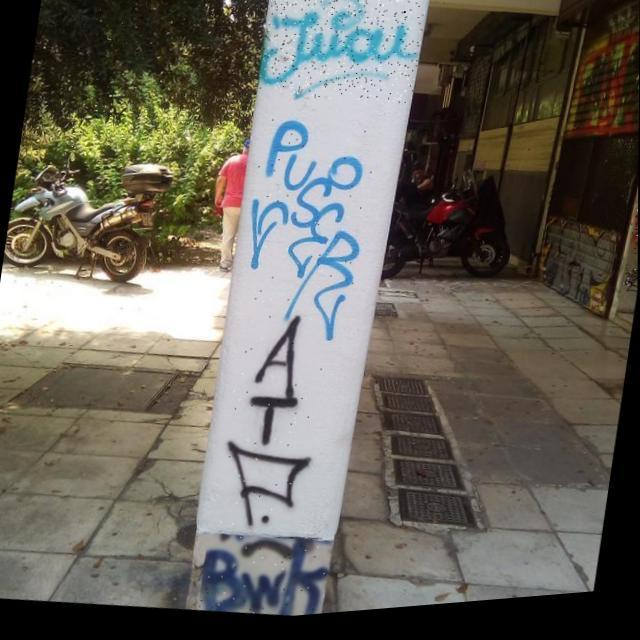-: (232, 114, 378, 354), (216, 312, 330, 539), (257, 0, 427, 120), (198, 530, 332, 628), (626, 198, 638, 281), (622, 277, 638, 301)
